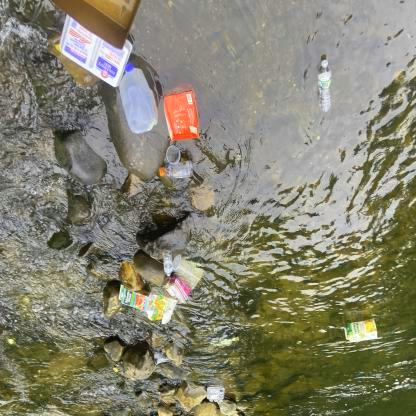Plastic: (58, 22, 130, 84), (118, 62, 160, 138), (160, 250, 202, 301), (314, 52, 336, 121), (157, 146, 196, 183), (205, 383, 226, 404)
